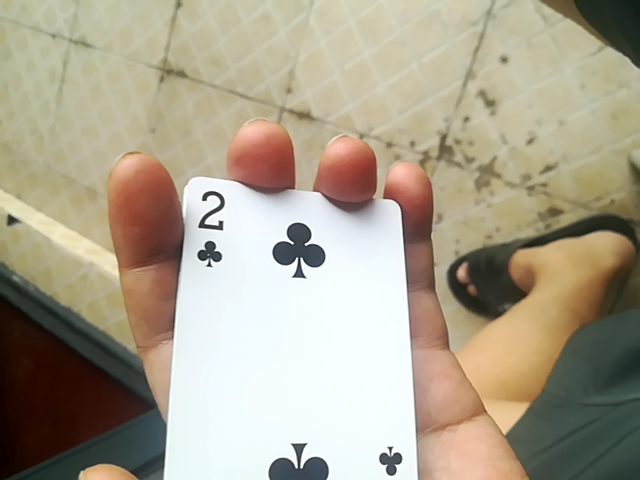mh 2: (168, 179, 431, 479)
